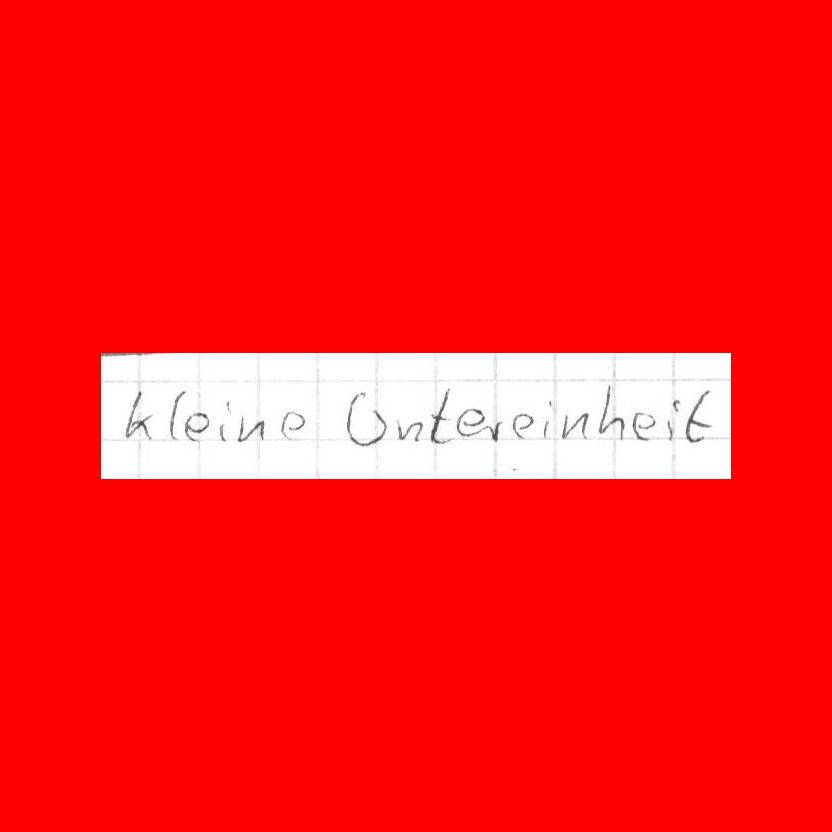Char: (342, 387, 388, 450), (683, 386, 715, 444), (120, 387, 154, 441), (596, 382, 626, 442), (426, 384, 454, 444), (165, 387, 187, 443), (275, 408, 308, 440), (455, 405, 484, 440), (560, 410, 591, 442), (394, 415, 426, 445), (235, 413, 267, 442), (184, 409, 210, 443), (662, 397, 681, 443), (631, 408, 656, 442), (511, 410, 536, 441), (215, 398, 232, 443), (541, 397, 556, 439), (486, 416, 506, 442)
